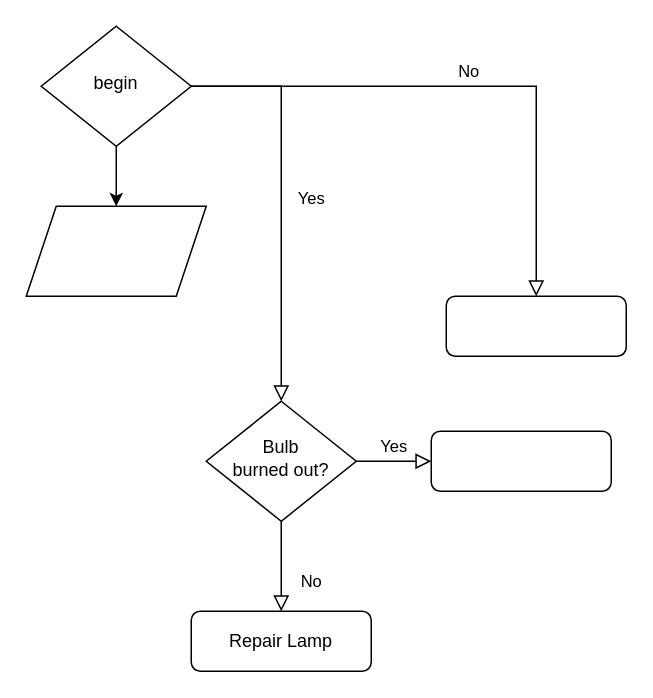
Image size: 653x698. Some labels were removed from this diagram. The centre of each missing label's shape, as x and y in pixels:
Plug in lamp: point (535, 325)
Replace Bulb: point (520, 460)
